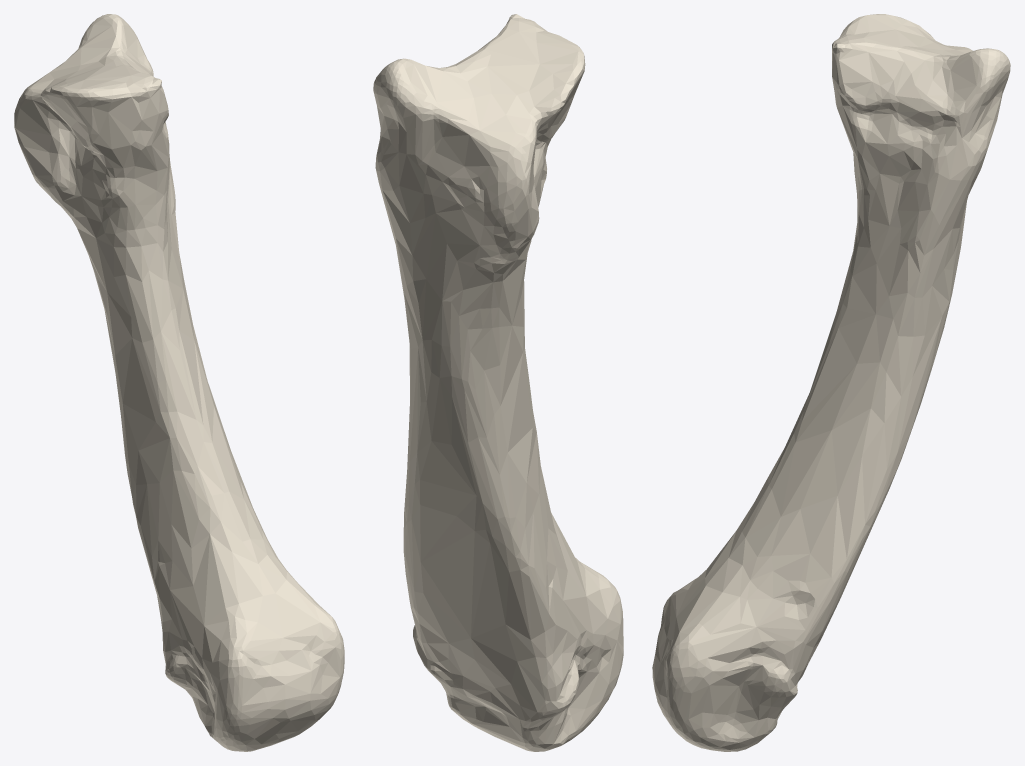
Rendered from left_metacarpal_3.glb.
The picture shows the model from 3 angles, left to right: view 1: azimuth 30°, elevation 25°; view 2: azimuth 150°, elevation 25°; view 3: azimuth 270°, elevation 25°; orthographic projection. The views are drawn at different scales.
Visible parts, largest first — view 1: left_metacarpal_3; view 2: left_metacarpal_3; view 3: left_metacarpal_3.
Boxes of the visible parts, left/top/right/bottom form: left_metacarpal_3: left=14, top=14, right=344, bottom=751; left_metacarpal_3: left=373, top=14, right=623, bottom=751; left_metacarpal_3: left=652, top=14, right=1010, bottom=751.
Size of the model in its own units: 0.0202 by 0.0647 by 0.0307.
